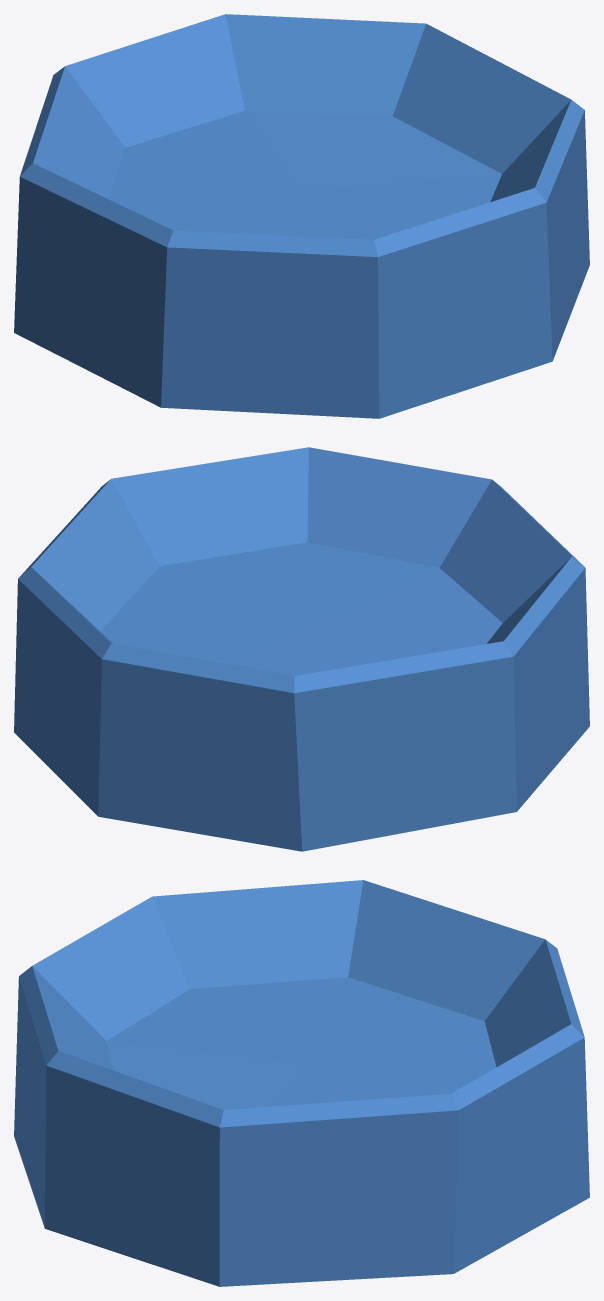
The model's file is Dish1.fbx.
3 views of the same model, one above another, from view 1: azimuth 30°, elevation 25°; view 2: azimuth 150°, elevation 25°; view 3: azimuth 270°, elevation 25° (orthographic). The views are drawn at different scales.
Visible parts, largest first — view 1: Dish1; view 2: Dish1; view 3: Dish1.
Boxes of the visible parts, x1=… form: Dish1: x1=14, y1=14, x2=589, y2=418; Dish1: x1=14, y1=447, x2=589, y2=851; Dish1: x1=14, y1=880, x2=589, y2=1286.
Size of the model in its own units: 27.18 by 26.88 by 8.89.
